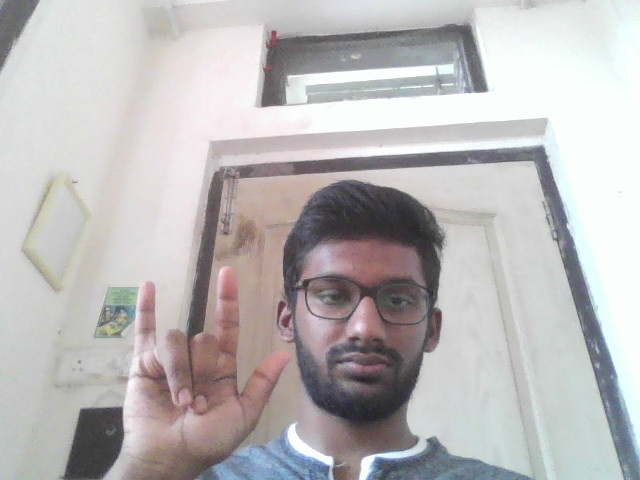I Love You: (112, 263, 293, 461)
